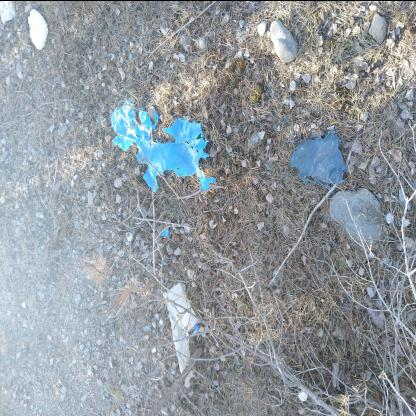kopuk: (29, 8, 48, 50)
plastik: (110, 96, 217, 192), (290, 130, 348, 191)
